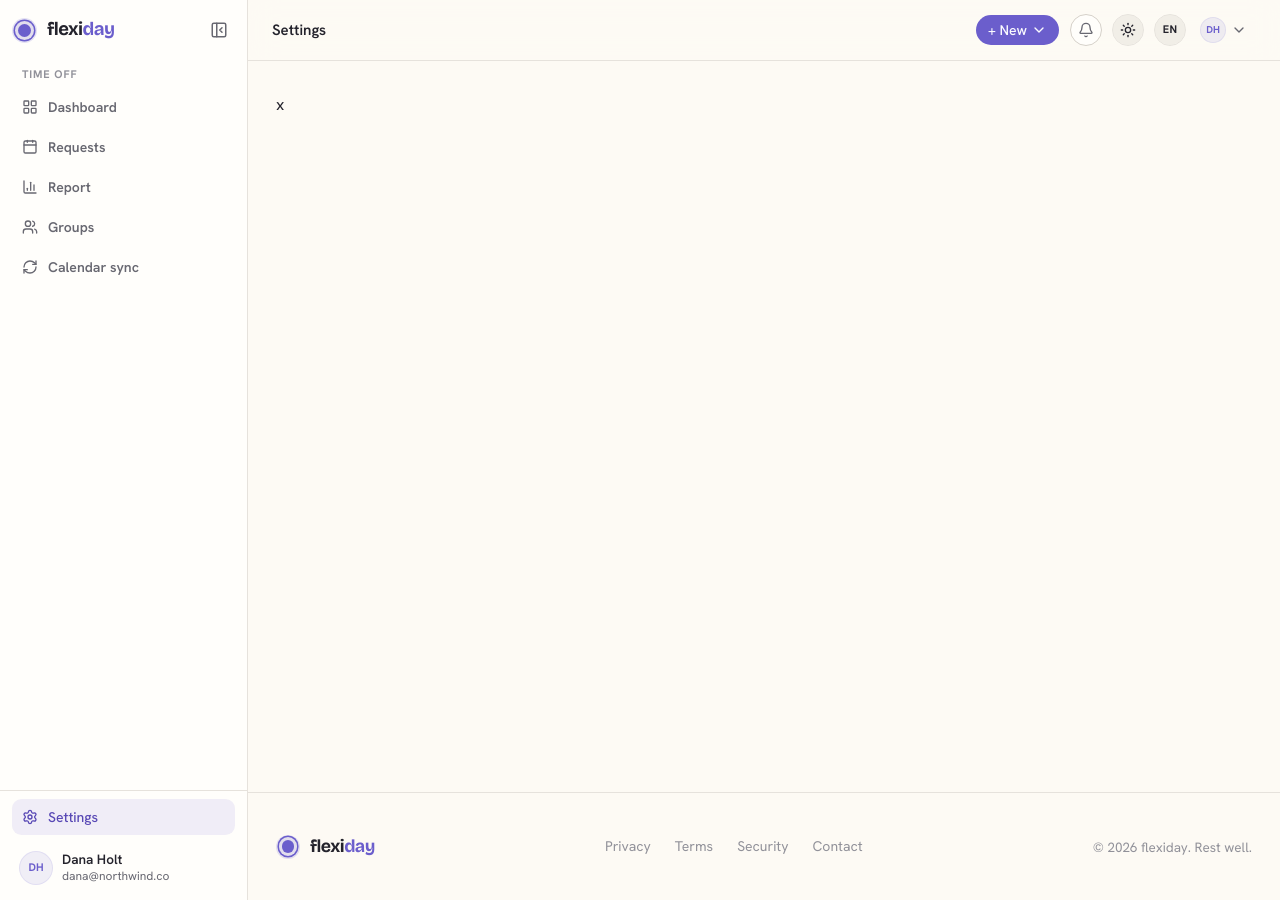
AppShell › New menu › toasts with View on calendar after a create away from the dashboard
This screenshot has width=1280, height=900.
Click the button "+ New" at (1018, 30), box [975, 14, 1060, 46]
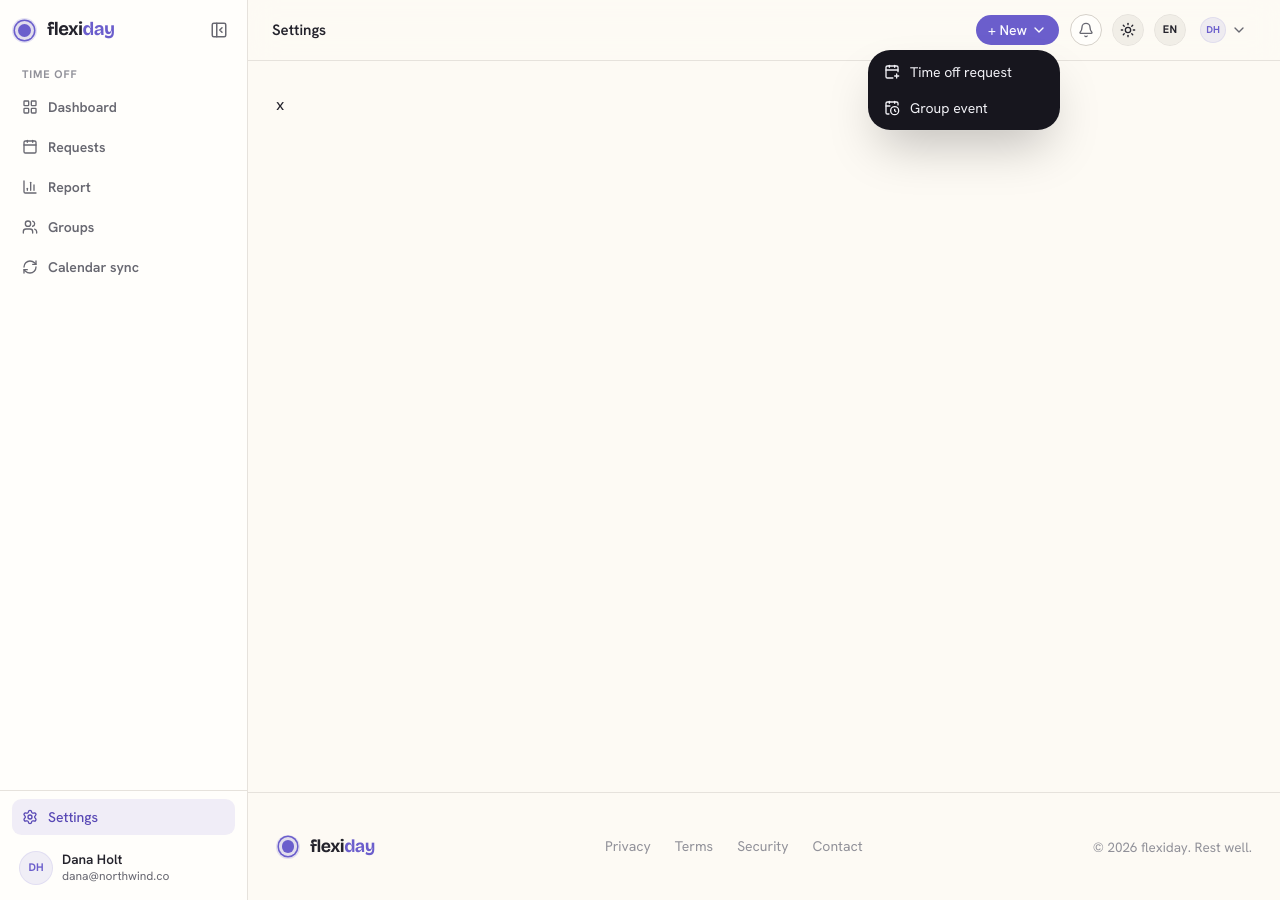
Click the menu item "Group event" at (936, 108), box [884, 99, 988, 117]
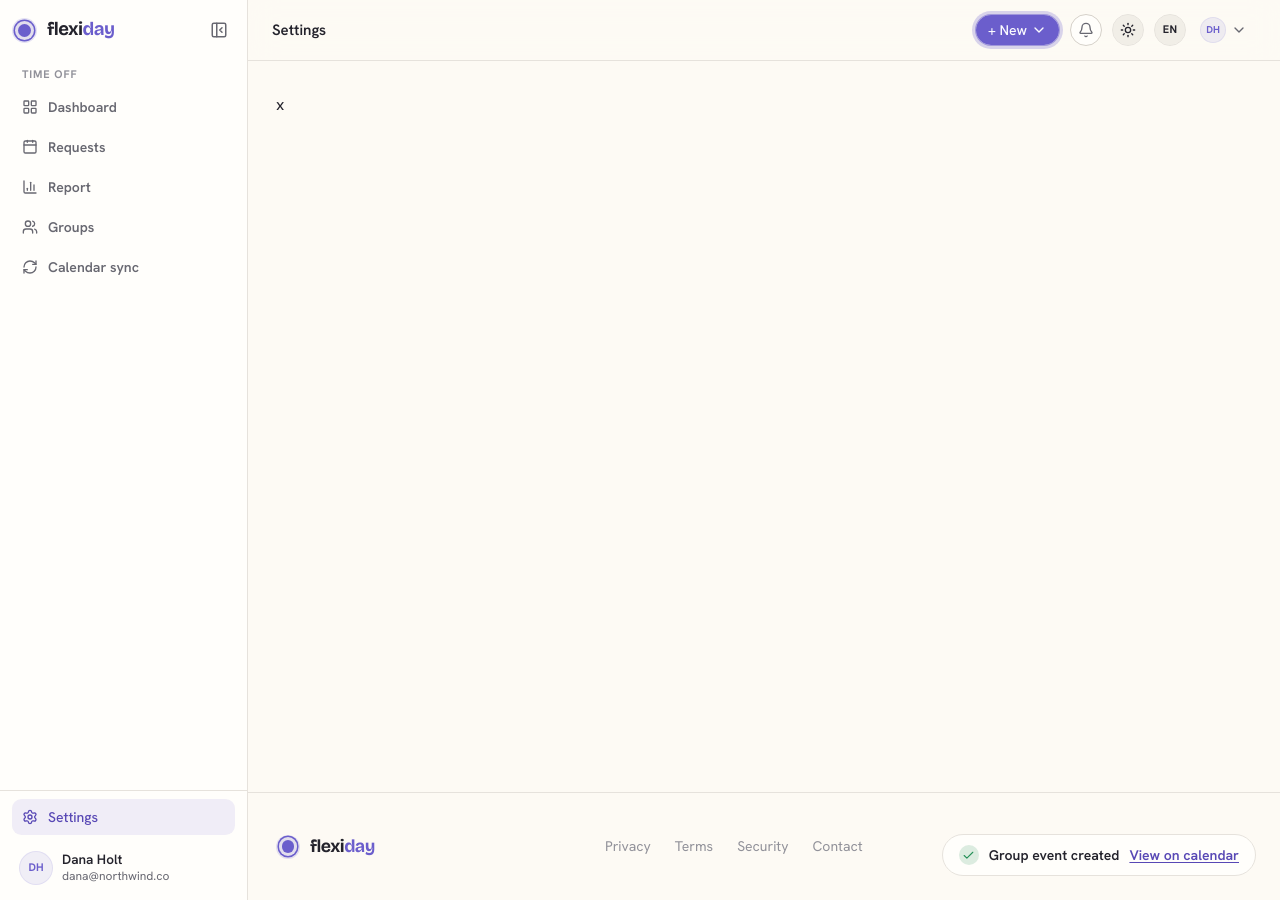
Check: the text "Group event created" is shown, box [989, 846, 1119, 864]
